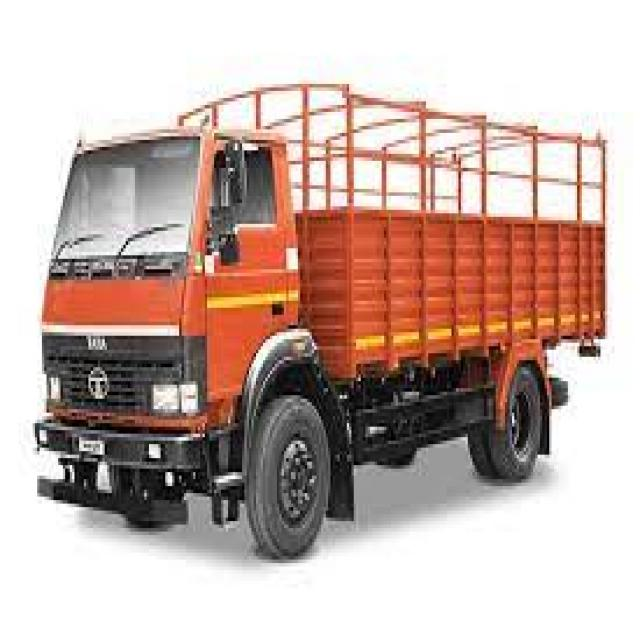Truck: (17, 39, 613, 567)
